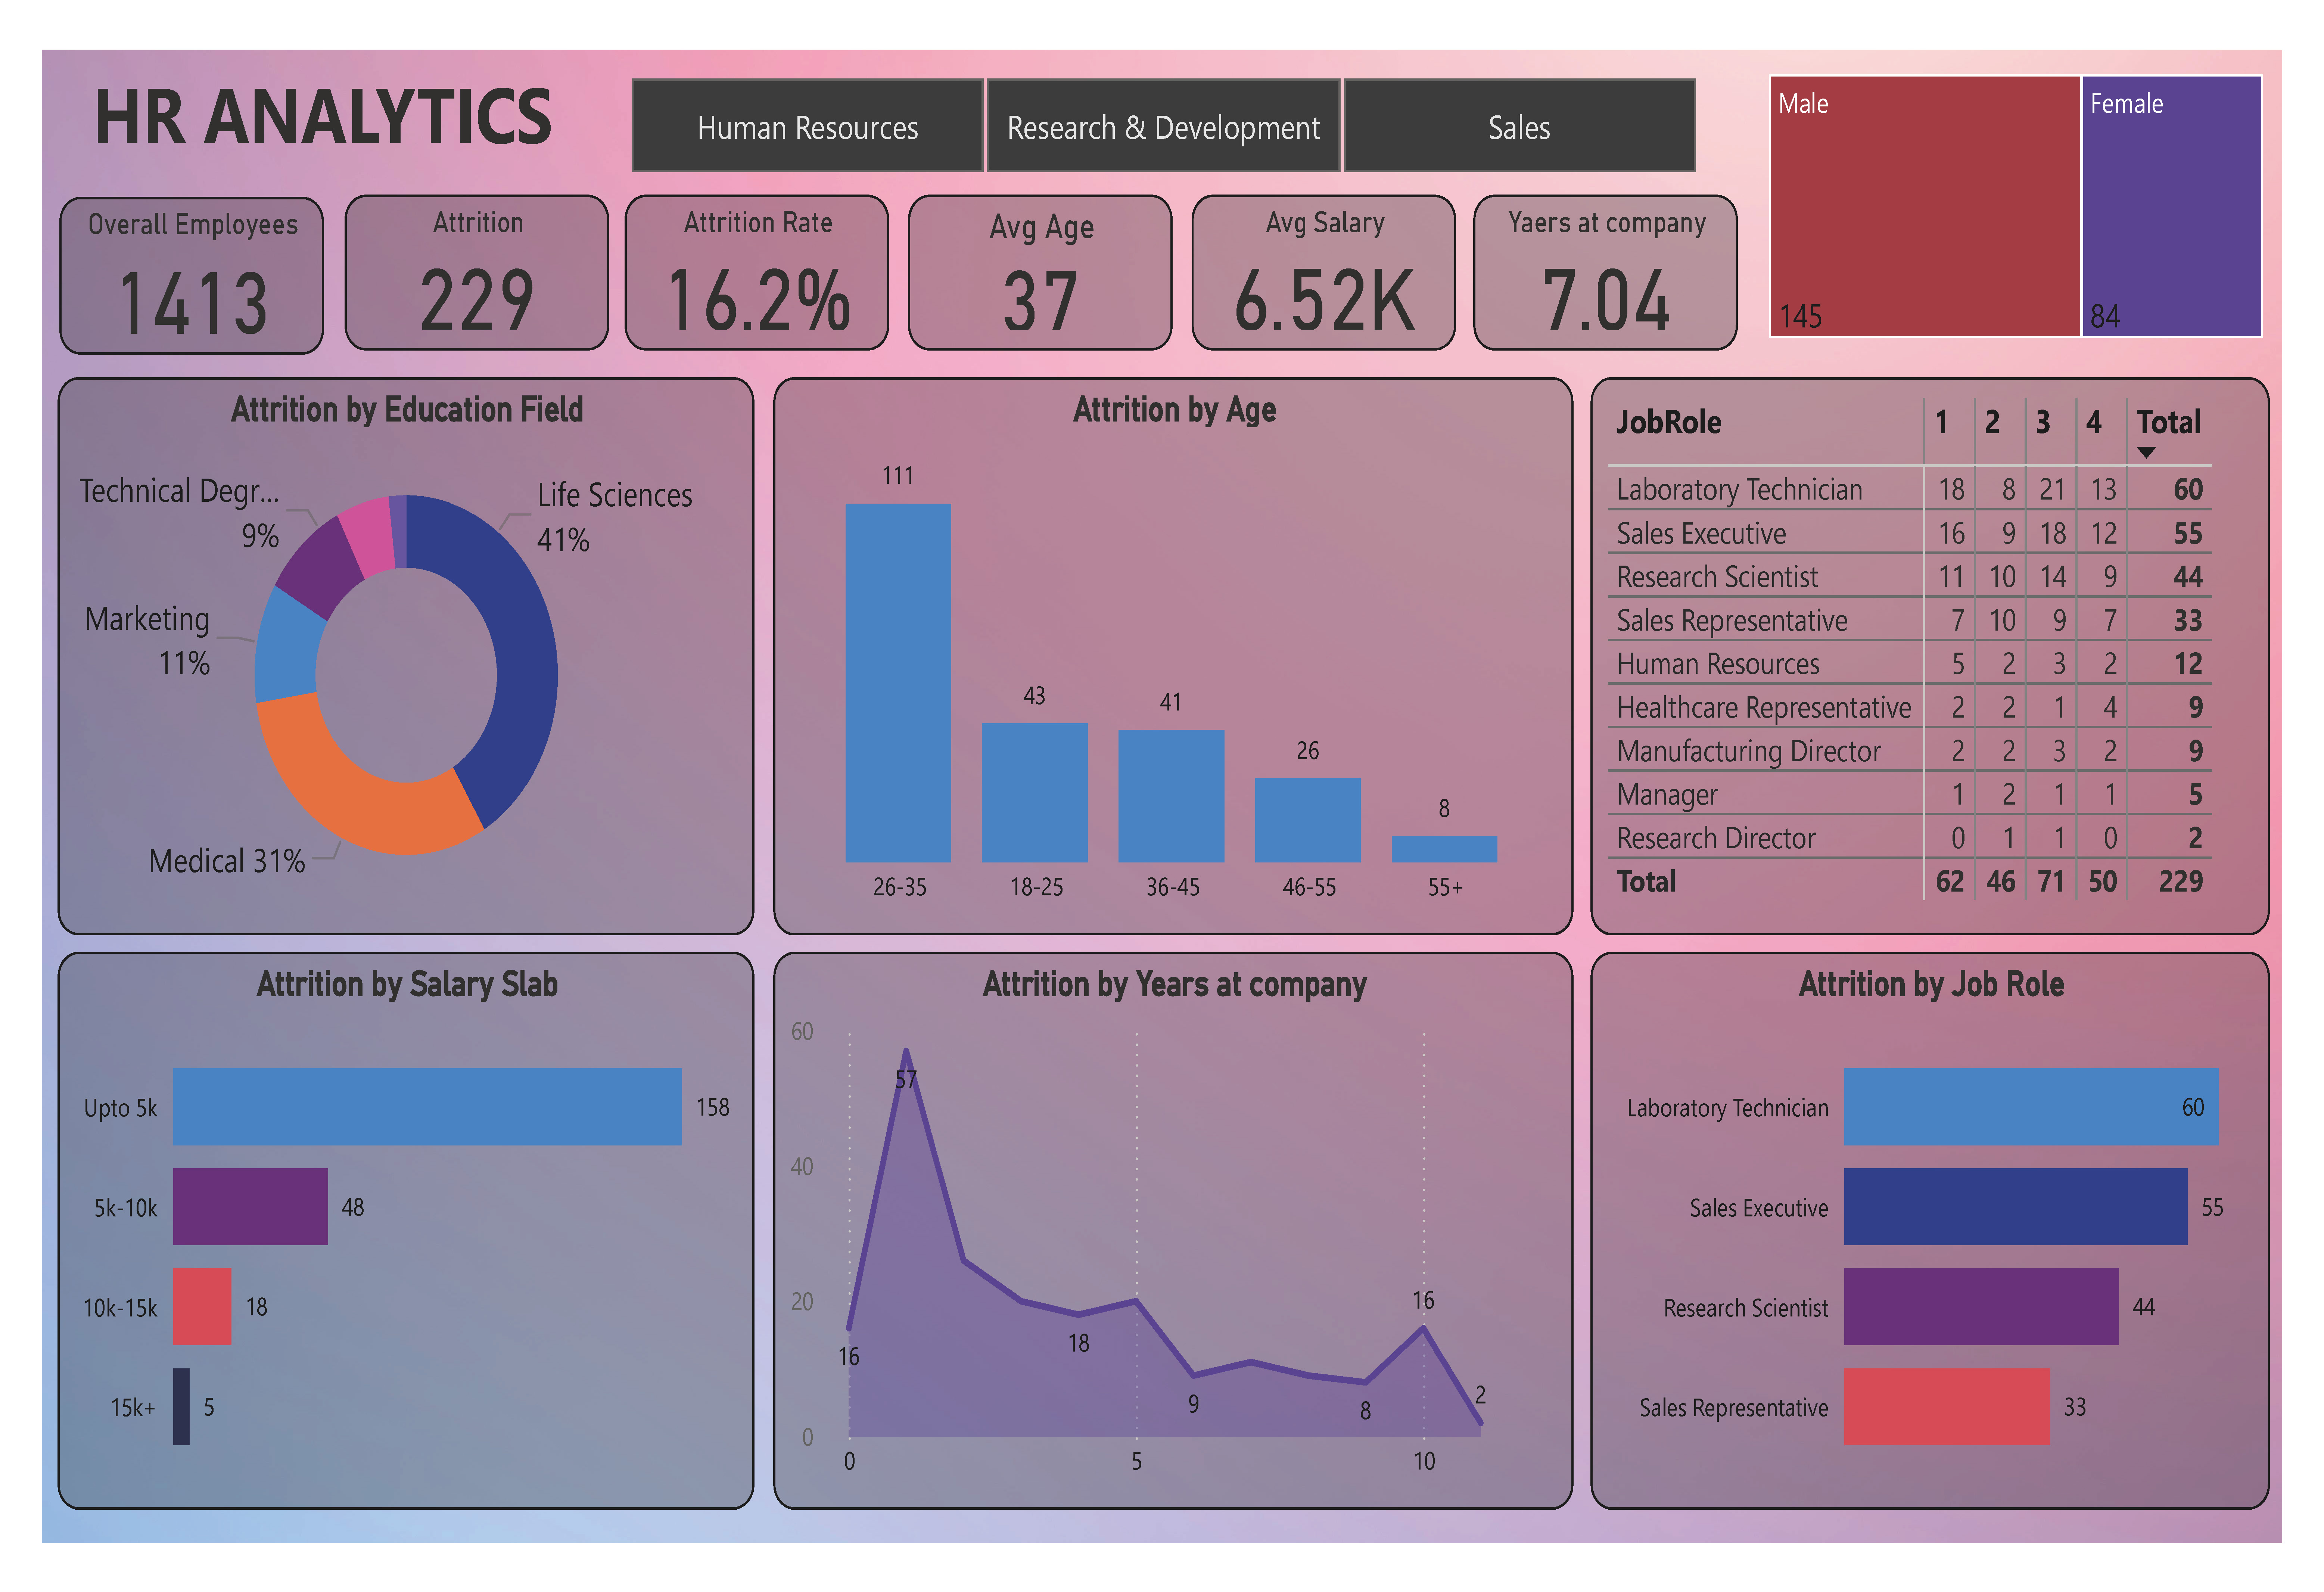

The page's visual inventory and layout, read from the dashboard file:
{"tool":"powerbi","page":{"name":"Page 1","canvas":[1280,720],"ordinal":0},"visuals":[{"type":"card","title":"Overall Employees","fields":{"Values":["CountNonNull(HR_Analytics.EmpID)"]},"box":[9.6,71.4,150.9,75.5],"z":0},{"type":"card","title":"Attrition","fields":{"Values":["Sum(HR_Analytics.AttritionCount)"]},"box":[172.9,70,150.9,75.5],"z":1000},{"type":"card","title":"Avg Salary","fields":{"Values":["Avg(HR_Analytics.MonthlyIncome)"]},"box":[657.3,70,150.9,75.5],"z":2000},{"type":"card","title":"Avg Age","fields":{"Values":["Avg(HR_Analytics.Age)"]},"box":[495.4,70,150.9,75.5],"z":3000},{"type":"card","title":"Attrition Rate","fields":{"Values":["HR_Analytics.Atrrition Percentage"]},"box":[333.4,70,150.9,75.5],"z":4000},{"type":"card","title":"Yaers at company","fields":{"Values":["Avg(HR_Analytics.YearsAtCompany)"]},"box":[818.1,70.3,150.7,74.6],"z":5000},{"type":"donutChart","title":"Attrition by Education Field","fields":{"Category":["HR_Analytics.EducationField"],"Y":["CountNonNull(HR_Analytics.Attrition)"]},"box":[8.6,158.4,398.2,268.3],"z":6000},{"type":"columnChart","title":"Attrition by Age","fields":{"Category":["HR_Analytics.AgeGroup"],"Y":["Sum(HR_Analytics.AttritionCount)"]},"box":[418.2,158.4,456.7,268.3],"z":7000},{"type":"barChart","title":"Attrition by Salary Slab","fields":{"Y":["Sum(HR_Analytics.AttritionCount)"],"Category":["HR_Analytics.SalarySlab"]},"box":[8.6,435.3,398.2,268.3],"z":8000},{"type":"areaChart","title":"Attrition by Years at company","fields":{"Category":["HR_Analytics.YearsAtCompany"],"Y":["Sum(HR_Analytics.AttritionCount)"]},"box":[418.2,435.3,456.7,268.3],"z":9000},{"type":"barChart","title":"Attrition by Job Role","fields":{"Y":["Sum(HR_Analytics.AttritionCount)"],"Category":["HR_Analytics.JobRole"]},"box":[884.9,435.3,388.2,268.3],"z":10000},{"type":"pivotTable","title":"Attrition by Job Role","fields":{"Rows":["HR_Analytics.JobRole"],"Values":["Sum(HR_Analytics.AttritionCount)"],"Columns":["HR_Analytics.JobSatisfaction"]},"box":[884.9,158.4,388.2,268.3],"z":11000},{"type":"textbox","box":[9.6,0,301.9,65.9],"z":12000},{"type":"treemap","title":"Attrition by Gender","fields":{"Group":["HR_Analytics.Gender"],"Values":["Sum(HR_Analytics.AttritionCount)"]},"box":[981.6,7.4,292,136.2],"z":13000},{"type":"slicer","fields":{"Values":["HR_Analytics.Department"]},"box":[311.5,6.9,657.3,59],"z":14000}]}

Visuals, with their boxes in screenshot pixels (x1, y1, x2, y2):
"Overall Employees" card: Rect(71, 323, 332, 454)
"Attrition" card: Rect(353, 321, 614, 451)
"Avg Salary" card: Rect(1190, 321, 1450, 451)
"Avg Age" card: Rect(910, 321, 1171, 451)
"Attrition Rate" card: Rect(630, 321, 891, 451)
"Yaers at company" card: Rect(1467, 321, 1728, 450)
"Attrition by Education Field" donutChart: Rect(69, 473, 757, 937)
"Attrition by Age" columnChart: Rect(777, 473, 1565, 937)
"Attrition by Salary Slab" barChart: Rect(69, 952, 757, 1415)
"Attrition by Years at company" areaChart: Rect(777, 952, 1565, 1415)
"Attrition by Job Role" barChart: Rect(1583, 952, 2253, 1415)
"Attrition by Job Role" pivotTable: Rect(1583, 473, 2253, 937)
textbox: Rect(71, 200, 592, 314)
"Attrition by Gender" treemap: Rect(1750, 212, 2254, 448)
slicer - HR_Analytics.Department: Rect(592, 212, 1728, 314)
